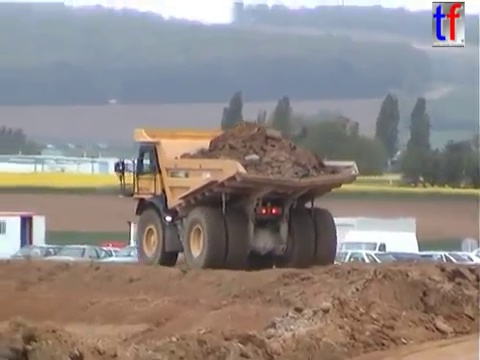truck: (112, 126, 362, 275)
